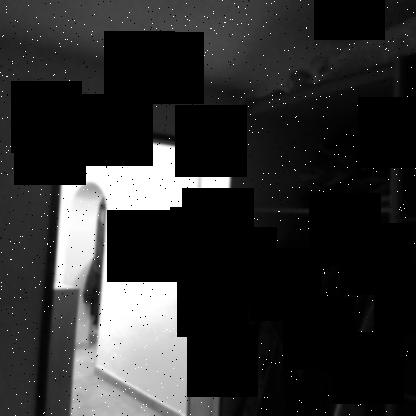Porte: (30, 116, 248, 416)
